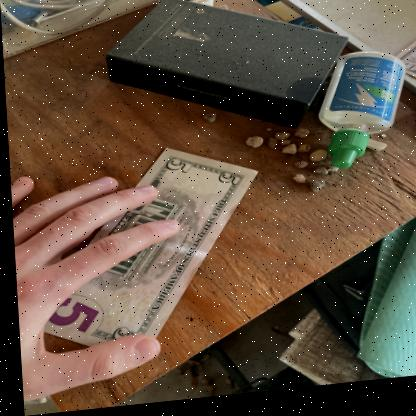five-back: (28, 145, 260, 364)
